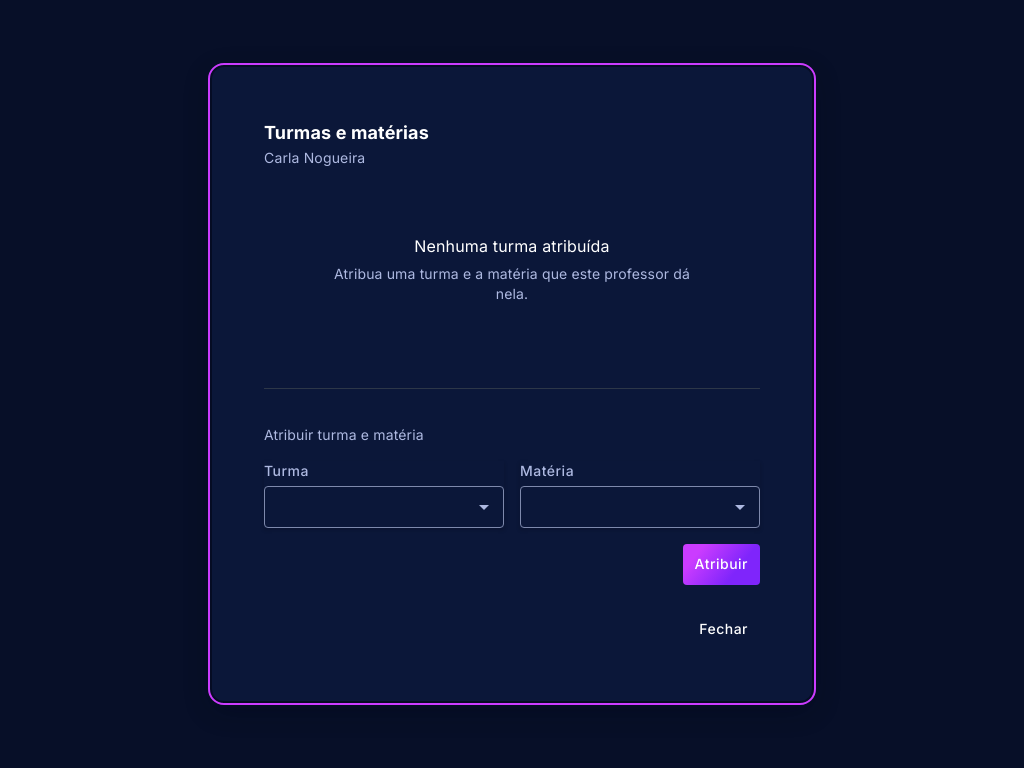
Test: TeacherAssignmentsDialog › requires both a class and a subject
This screenshot has width=1024, height=768.
What coordinates should you click on to do the following:
click the button "Atribuir"
I would click on:
 (721, 565)
Its box is [682,544,760,585].
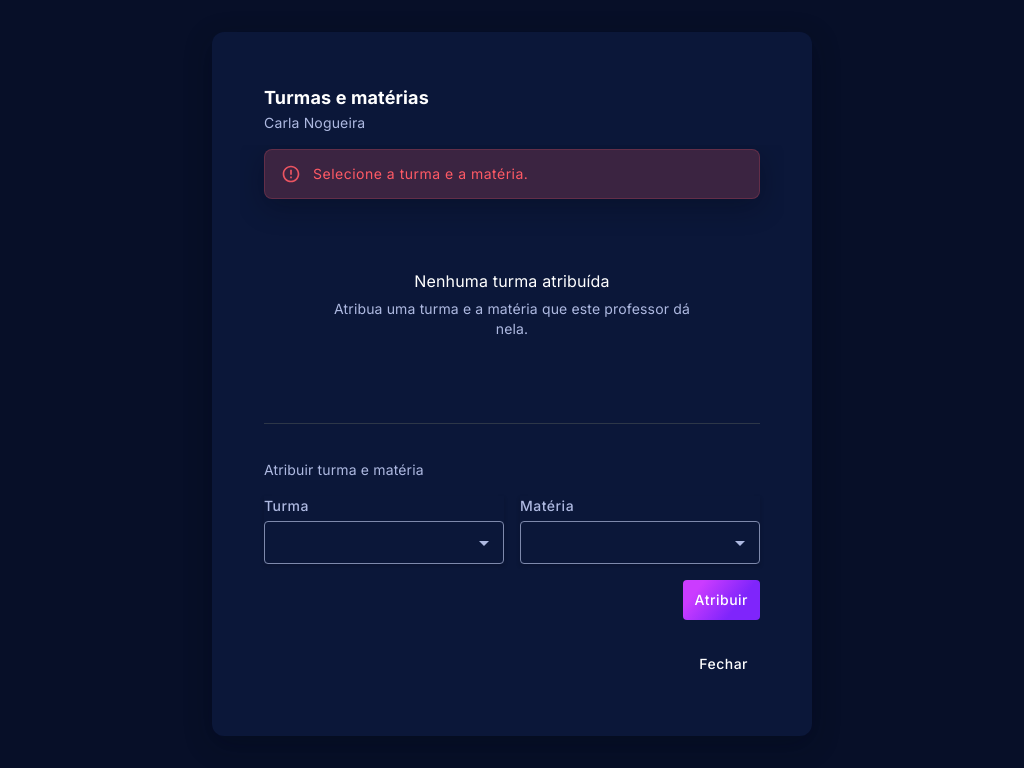
Expected: the text "Selecione a turma e a matéria." is shown, [313,165,528,182]
